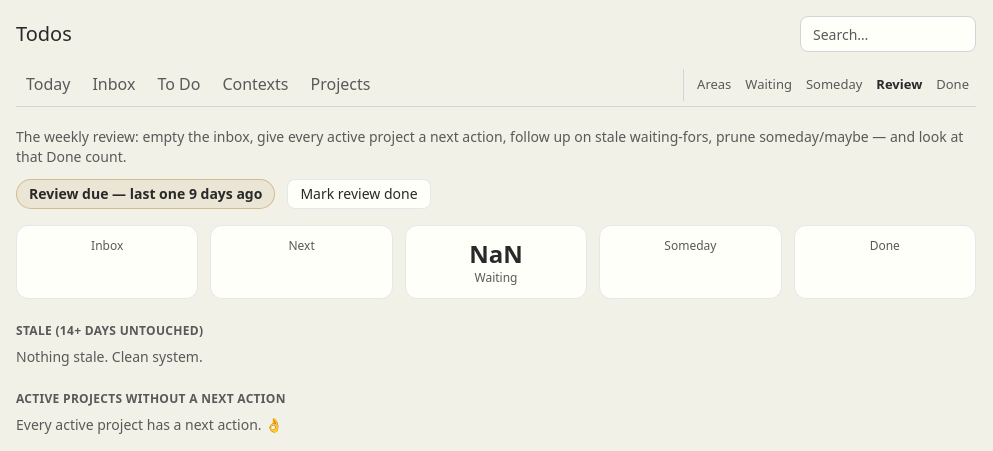
Scenario: the review-due line › a failed save says so and keeps the line
The width and height of the screenshot is (993, 451).
Click the button "Mark review done" at (359, 194), box [287, 179, 431, 209]
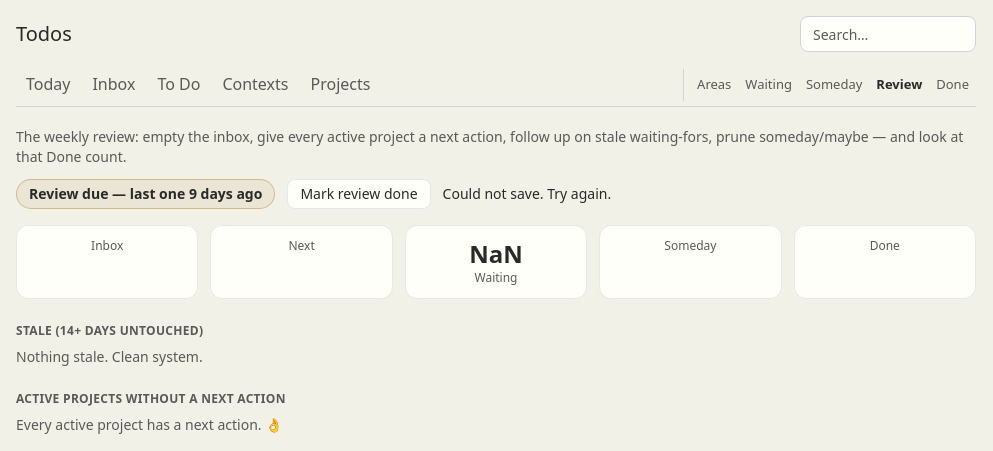
Expected: the message "Could not save. Try again." is shown, [443, 184, 611, 204]
